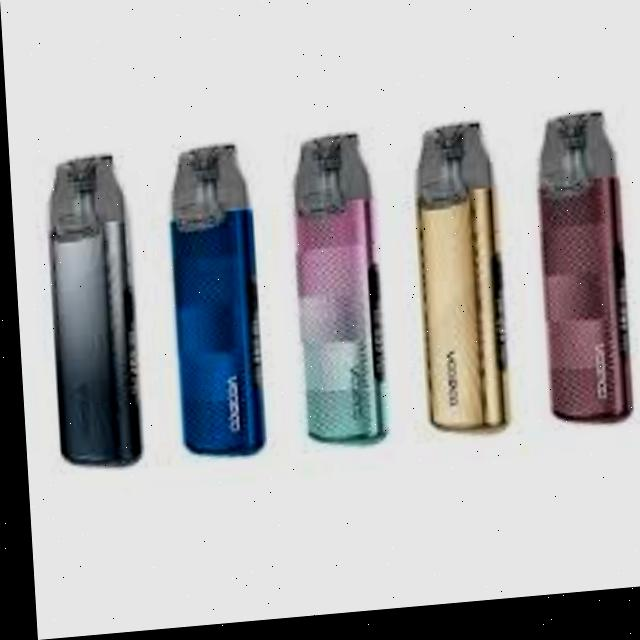vape: (164, 148, 264, 464), (288, 139, 386, 456), (42, 158, 140, 474), (535, 122, 631, 437), (411, 129, 505, 447)
